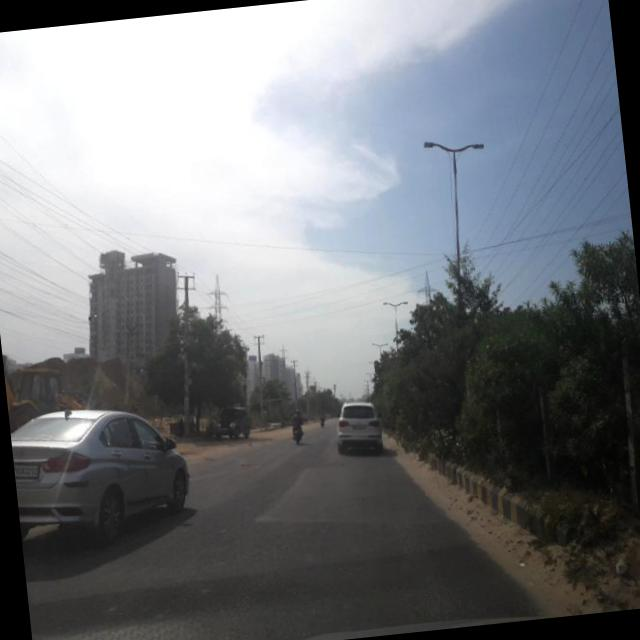crack: (172, 469, 500, 640)
